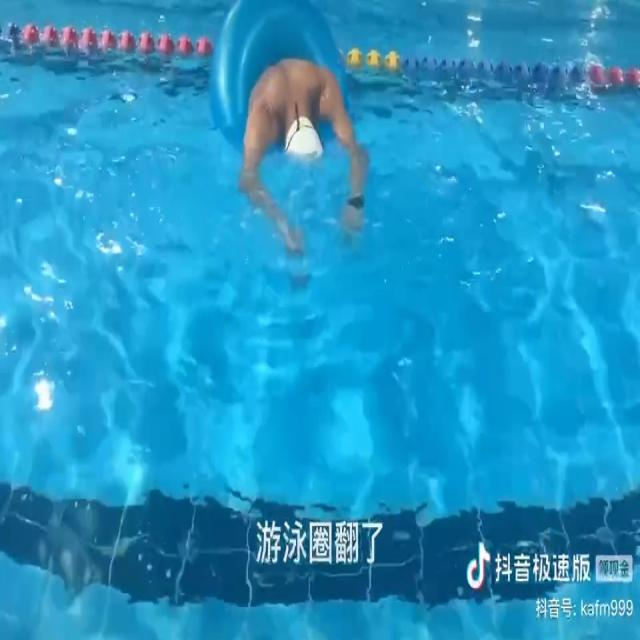Drowning: (237, 62, 373, 257)
